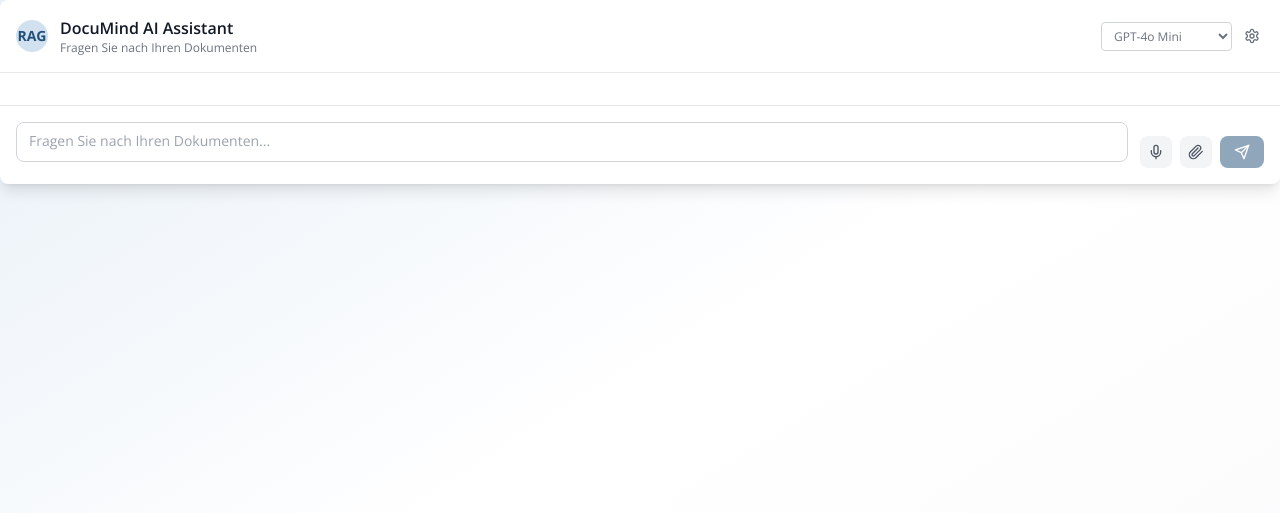
Scenario: RAGChat UX Improvements › rendert Quellen als Inline-Link statt separatem Preview-Block
In the text box with placeholder "Fragen Sie nach Ihren Dokumenten...": (572,142) [16, 122, 1128, 162], type "Bitte gib Quelle an"
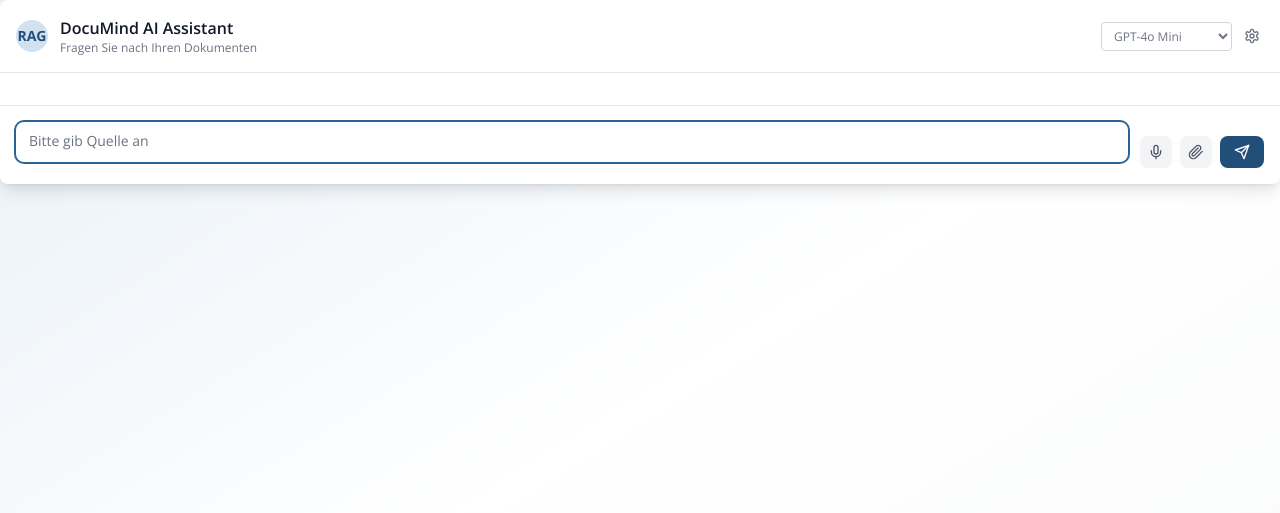
Click the button named "Senden": (1242,152) [1220, 136, 1264, 168]
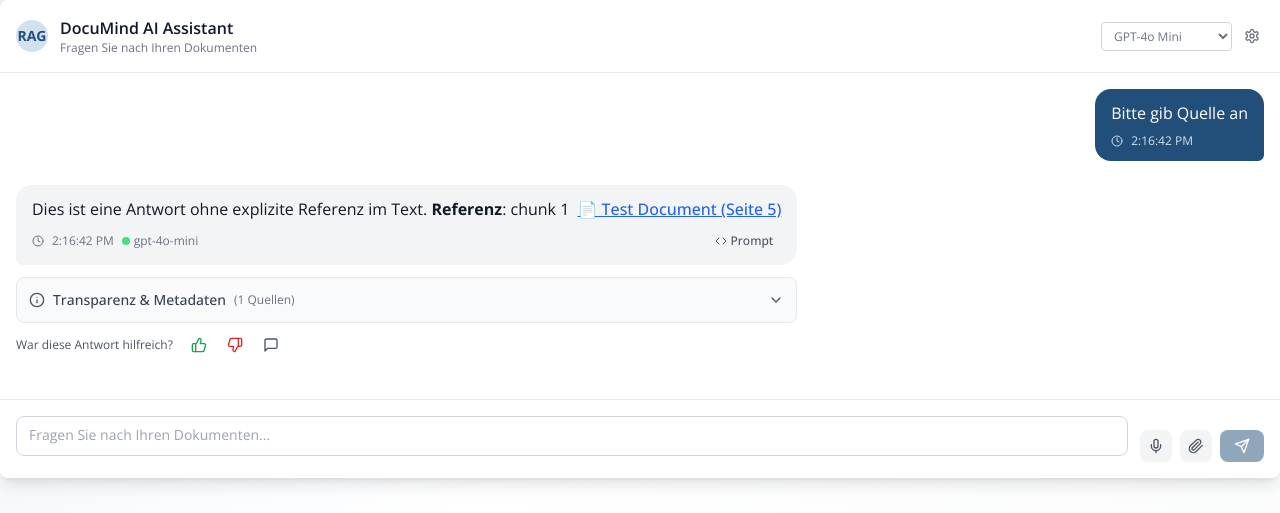
Now the link "📄 Test Document (Seite 5)" is shown, box [578, 198, 781, 220]
